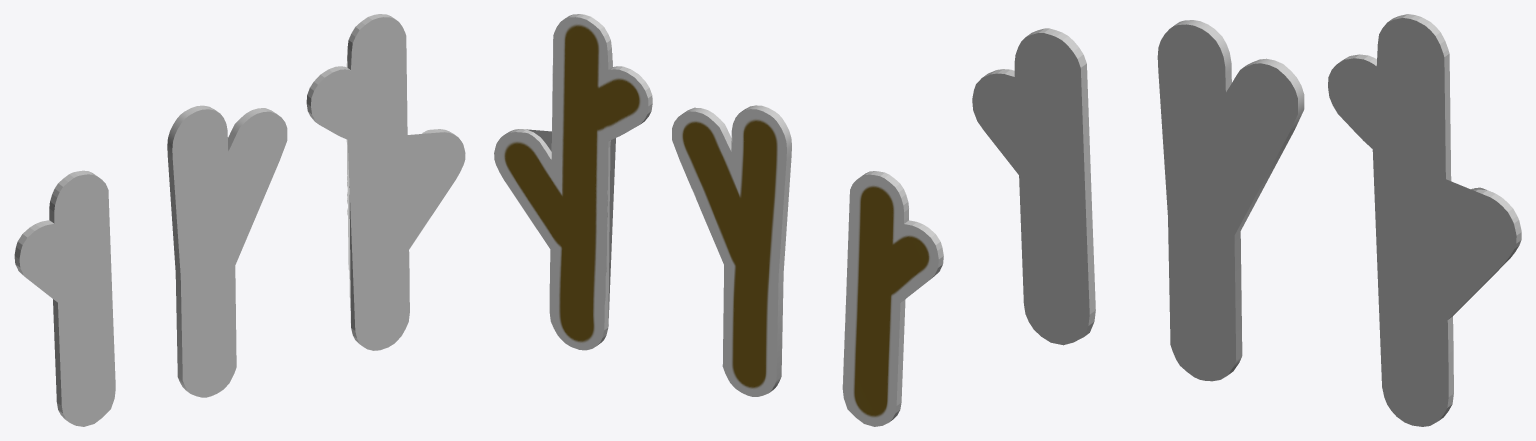
Rendered from branches.fbx.
The picture shows the model from 3 angles, left to right: view 1: azimuth 30°, elevation 25°; view 2: azimuth 150°, elevation 25°; view 3: azimuth 330°, elevation 25°; orthographic projection. The views are drawn at different scales.
Parts seen in each view (by area): view 1: branch1, branch2, branch3; view 2: branch1, branch2, branch3; view 3: branch1, branch2, branch3.
Boxes of the visible parts, x1,y1,x2,y2 form: branch1: (306, 14, 465, 350); branch2: (167, 105, 287, 397); branch3: (14, 170, 115, 426); branch1: (494, 14, 652, 350); branch2: (672, 105, 791, 396); branch3: (842, 171, 943, 426); branch1: (1328, 14, 1521, 426); branch2: (1157, 20, 1304, 381); branch3: (972, 28, 1095, 345).
Size of the model in its own units: 277 by 200 by 5.84.
